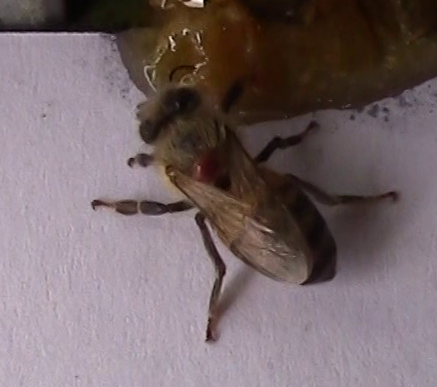Varroa destructor: (187, 147, 229, 185)
